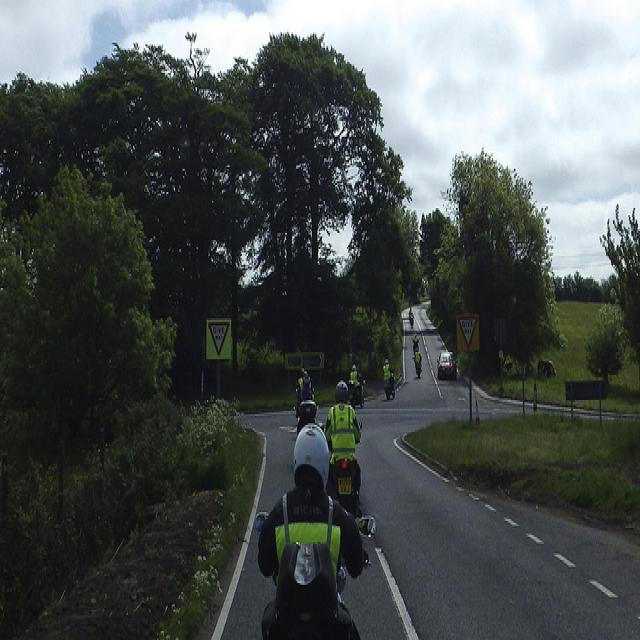motor: (333, 456, 359, 517), (296, 400, 322, 443), (347, 379, 366, 410), (385, 374, 395, 400), (413, 356, 422, 378), (411, 337, 421, 355), (409, 315, 413, 325)
